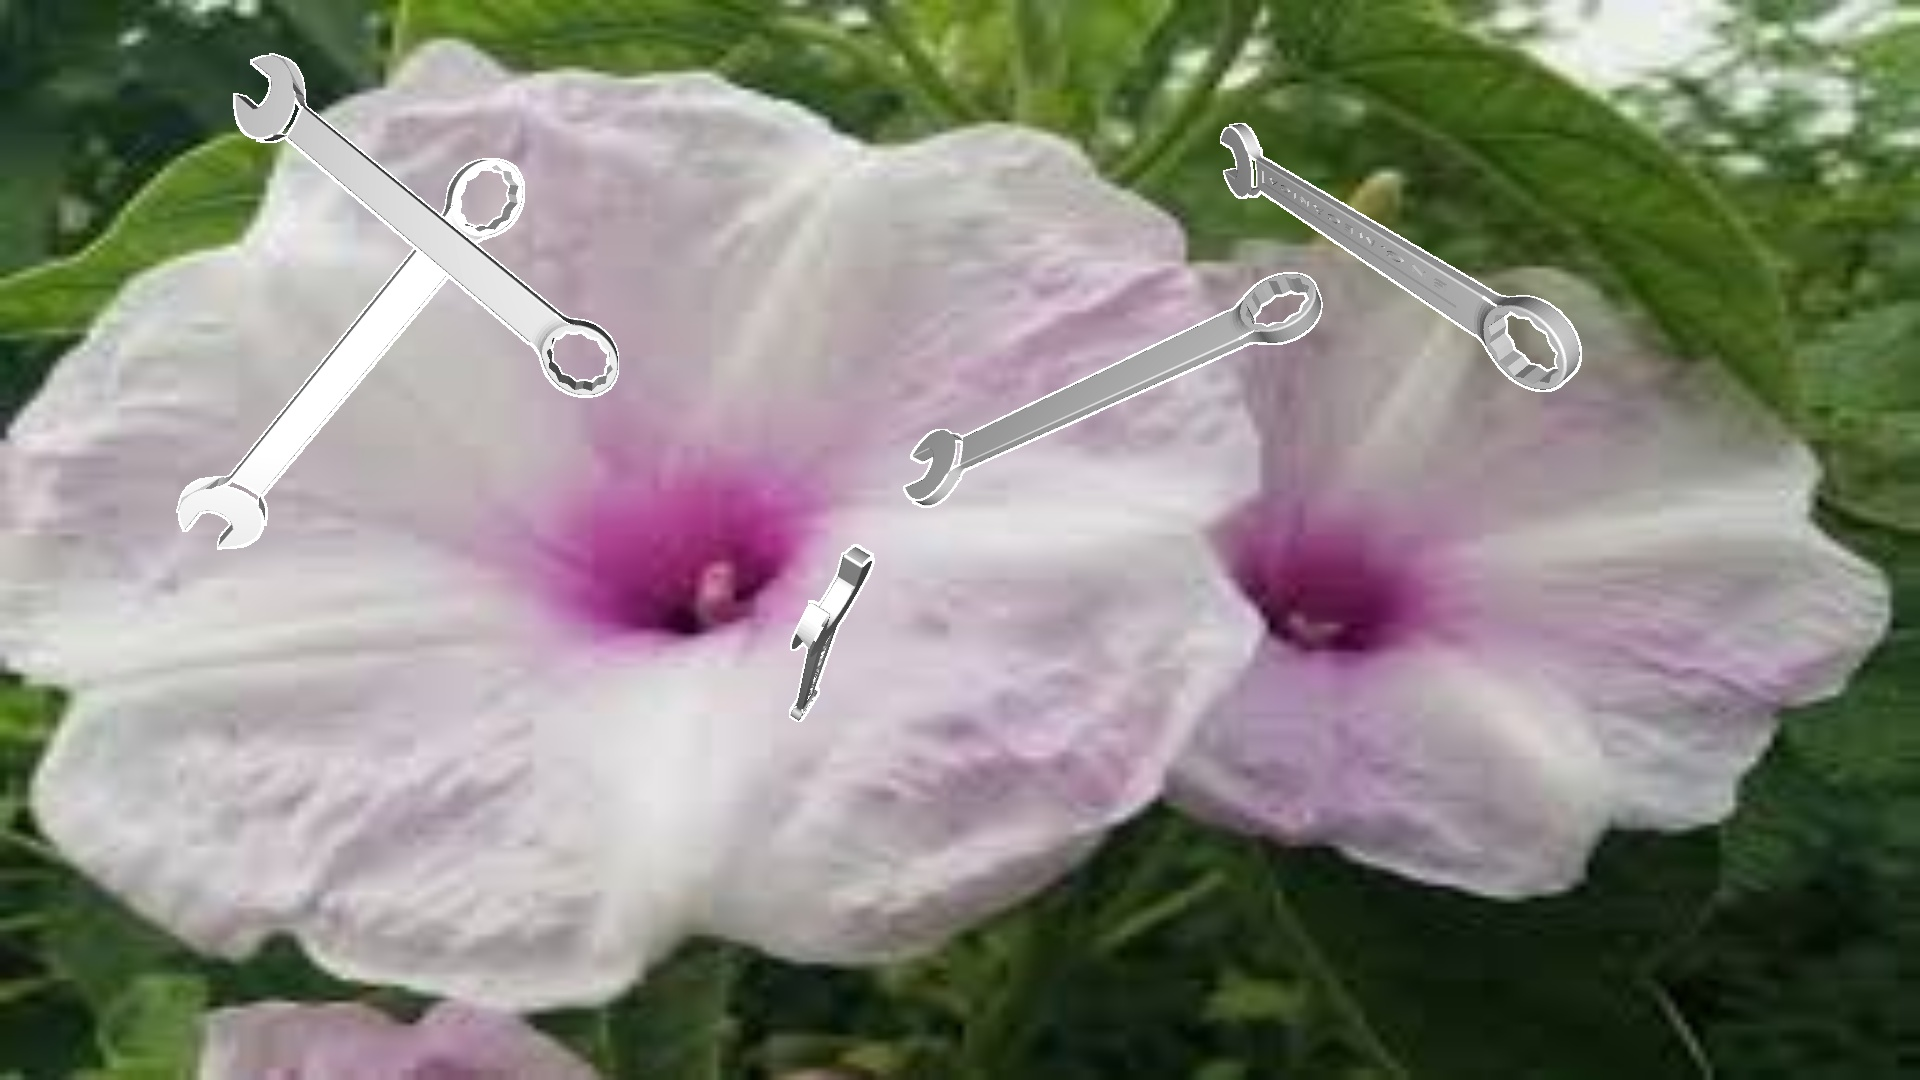Mixed Key: (175, 158, 524, 549), (233, 53, 618, 397), (903, 272, 1323, 506), (1220, 123, 1581, 392), (789, 545, 874, 721)
